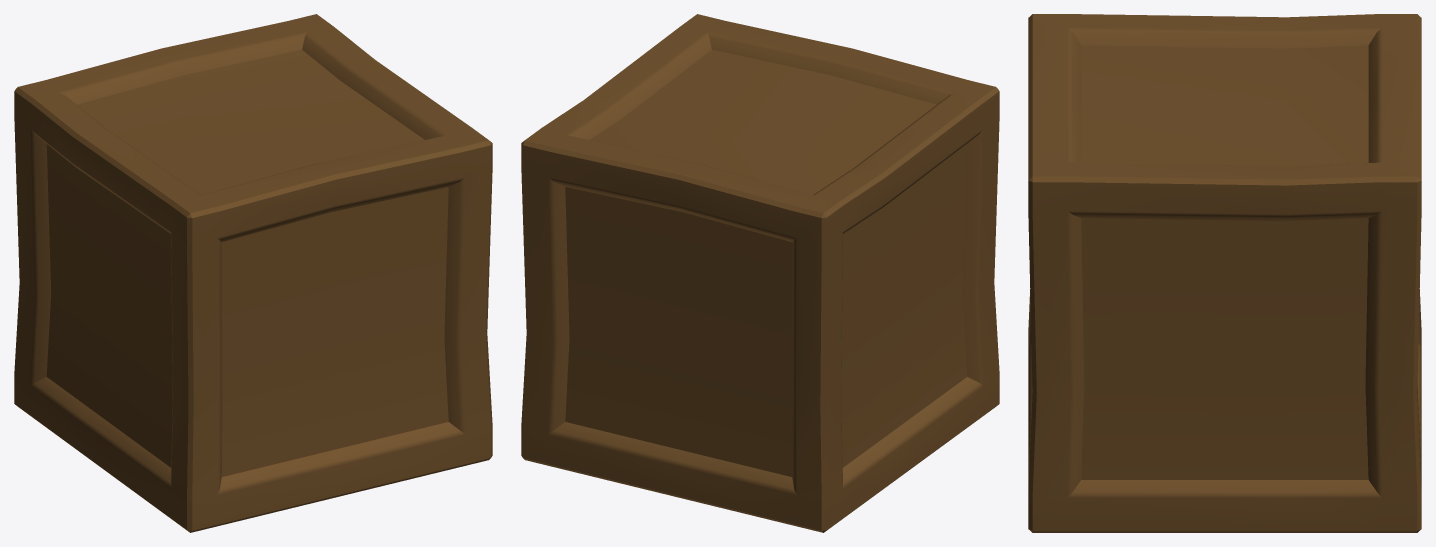
Rendered from Caja.fbx.
3 renders of one model, left to right at view 1: azimuth 30°, elevation 25°; view 2: azimuth 150°, elevation 25°; view 3: azimuth 270°, elevation 25°, orthographic. The views are drawn at different scales.
Parts seen in each view (by area): view 1: Caja; view 2: Caja; view 3: Caja.
Part boxes in pixels (x1,y1,x2,y2): Caja: (14,14,492,532); Caja: (521,14,999,532); Caja: (1028,14,1421,532).
Bounding box in the file's own units: 126 × 127 × 126.
1 material, 1 textured.
